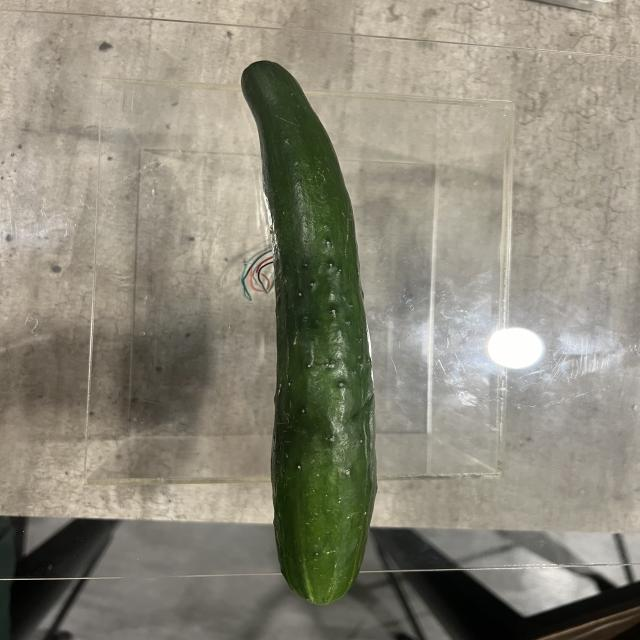cucumber: (240, 59, 378, 615)
